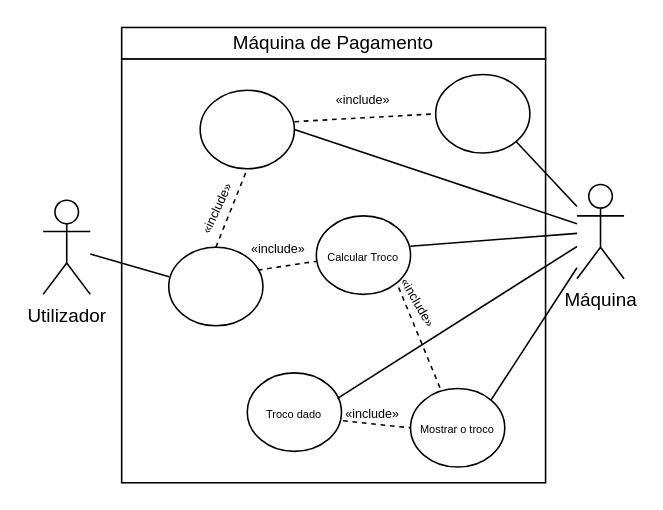
The diagram is 663 pixels wide and 510 high, and some of its shapes have lost their labels. The box of each missing label's shape, as (x1, y1, x2, y2) in pixels:
Gerar valor a pagar: (434, 73, 530, 153)
Inserir Pagamento: (167, 246, 263, 326)
Mostrar valor a pagar: (199, 89, 294, 169)
